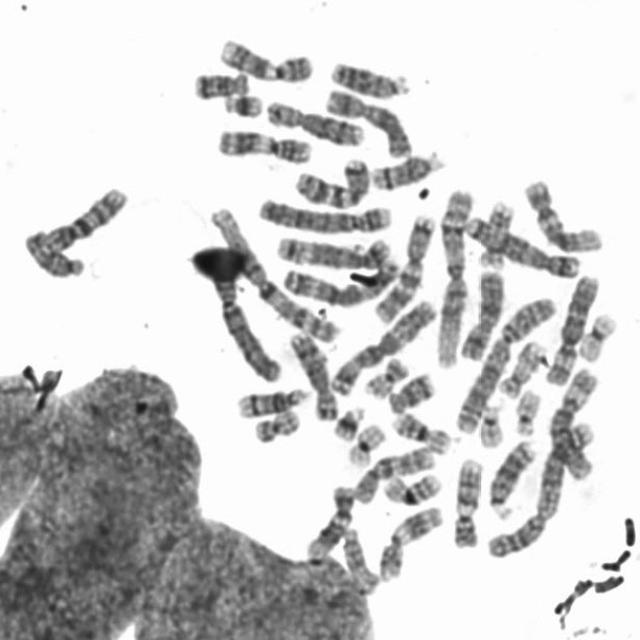A1: (202, 201, 341, 345), (429, 182, 475, 370)
A2: (479, 413, 599, 561), (448, 287, 558, 436)
A3: (323, 292, 438, 397), (277, 254, 403, 308)
B4: (202, 263, 284, 384), (250, 189, 395, 236)
B5: (457, 207, 582, 279), (269, 227, 394, 270)
C10: (38, 178, 130, 254), (346, 437, 438, 505)
C11: (372, 497, 446, 583), (210, 121, 315, 165)
C12: (516, 171, 606, 255), (299, 477, 358, 560)
C6: (540, 267, 604, 388), (542, 360, 601, 483)
C7: (368, 208, 438, 325), (288, 149, 371, 210)
C8: (281, 322, 341, 423), (258, 92, 367, 147)
C9: (212, 30, 316, 84), (447, 451, 486, 550)
D13: (482, 432, 539, 520), (324, 53, 412, 99)
D14: (364, 144, 446, 191), (230, 379, 311, 419)
D15: (18, 223, 88, 280), (334, 520, 382, 594)
E16: (385, 404, 453, 455), (376, 465, 446, 506)
E17: (470, 194, 518, 270), (493, 333, 548, 399)
E18: (382, 364, 437, 415), (186, 64, 252, 100)
F19: (571, 304, 620, 363), (339, 416, 388, 468)
F20: (357, 350, 411, 399), (247, 400, 302, 444)
G21: (325, 398, 367, 443), (217, 86, 264, 118)
G22: (507, 381, 544, 437), (472, 396, 507, 450)
X: (318, 80, 415, 160), (453, 263, 507, 361)
